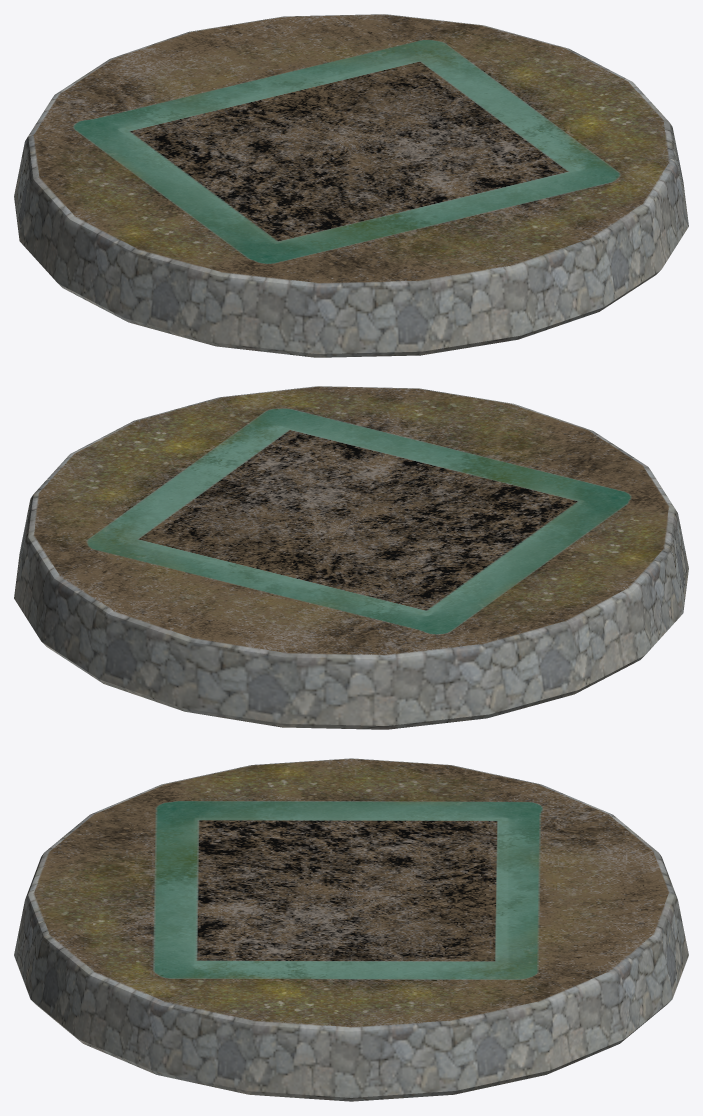
The model's file is Diorama_nagoya_dodai.fbx.
3 views of the same model, one above another, from view 1: azimuth 30°, elevation 25°; view 2: azimuth 150°, elevation 25°; view 3: azimuth 270°, elevation 25° (orthographic).
Parts seen in each view (by area): view 1: polySurface1; view 2: polySurface1; view 3: polySurface1.
Part boxes in pixels (left/top/right/bottom): polySurface1: left=14, top=14, right=688, bottom=357; polySurface1: left=14, top=386, right=688, bottom=729; polySurface1: left=14, top=758, right=688, bottom=1101.
Bounding box in the file's own units: 1476 × 165 × 1476.
